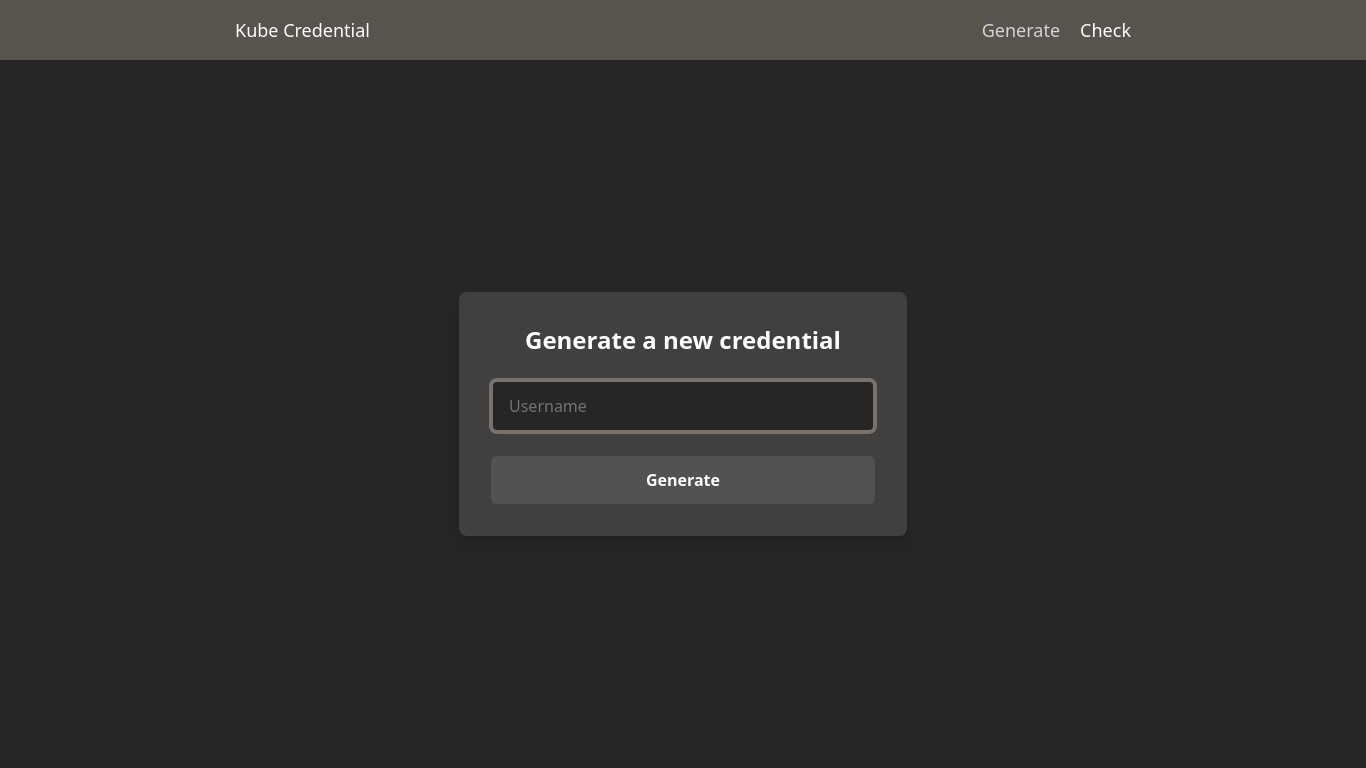
Test: GeneratePage › should show an alternate modal when a credential is already generated for a username
Type "test-user" into the field with placeholder "Username" at coordinates (683, 406), box [491, 380, 875, 432]
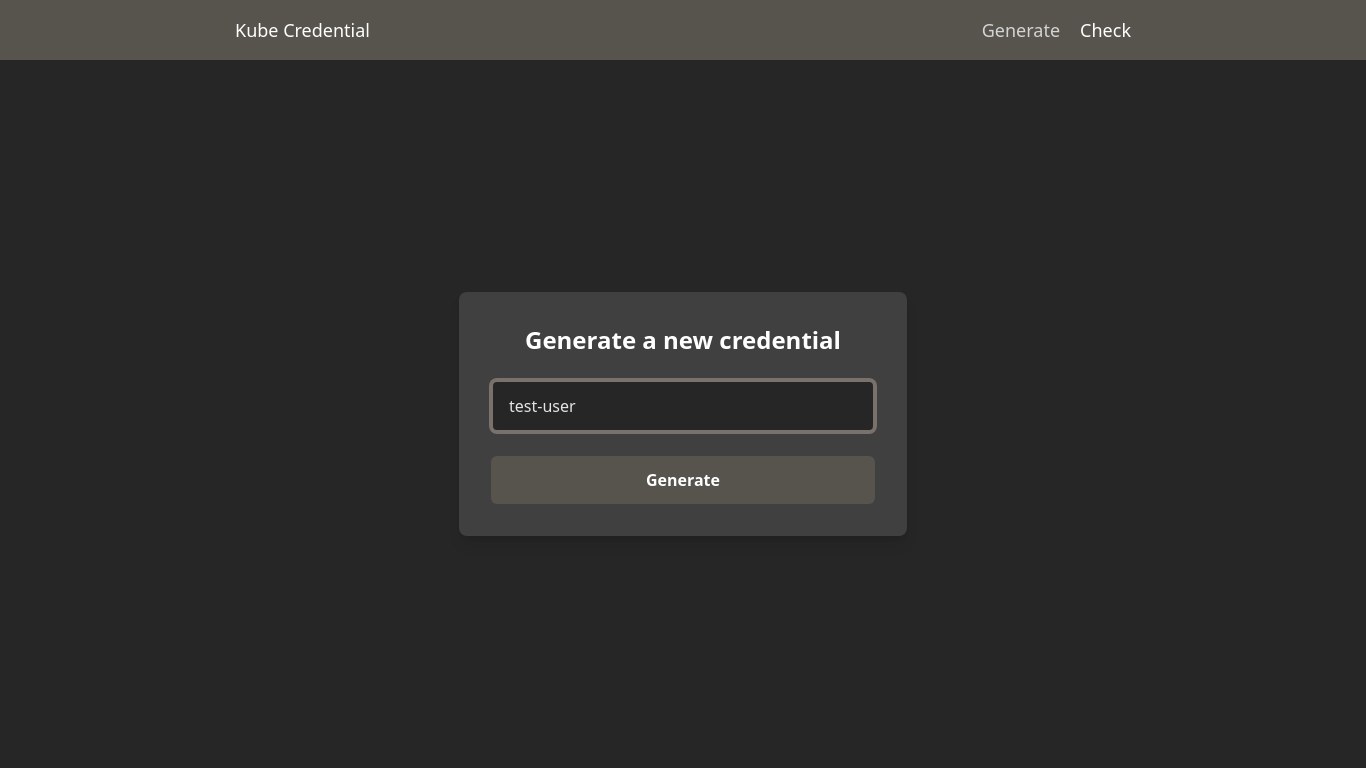
Click the button "Generate" at coordinates (683, 480), box [491, 456, 875, 504]
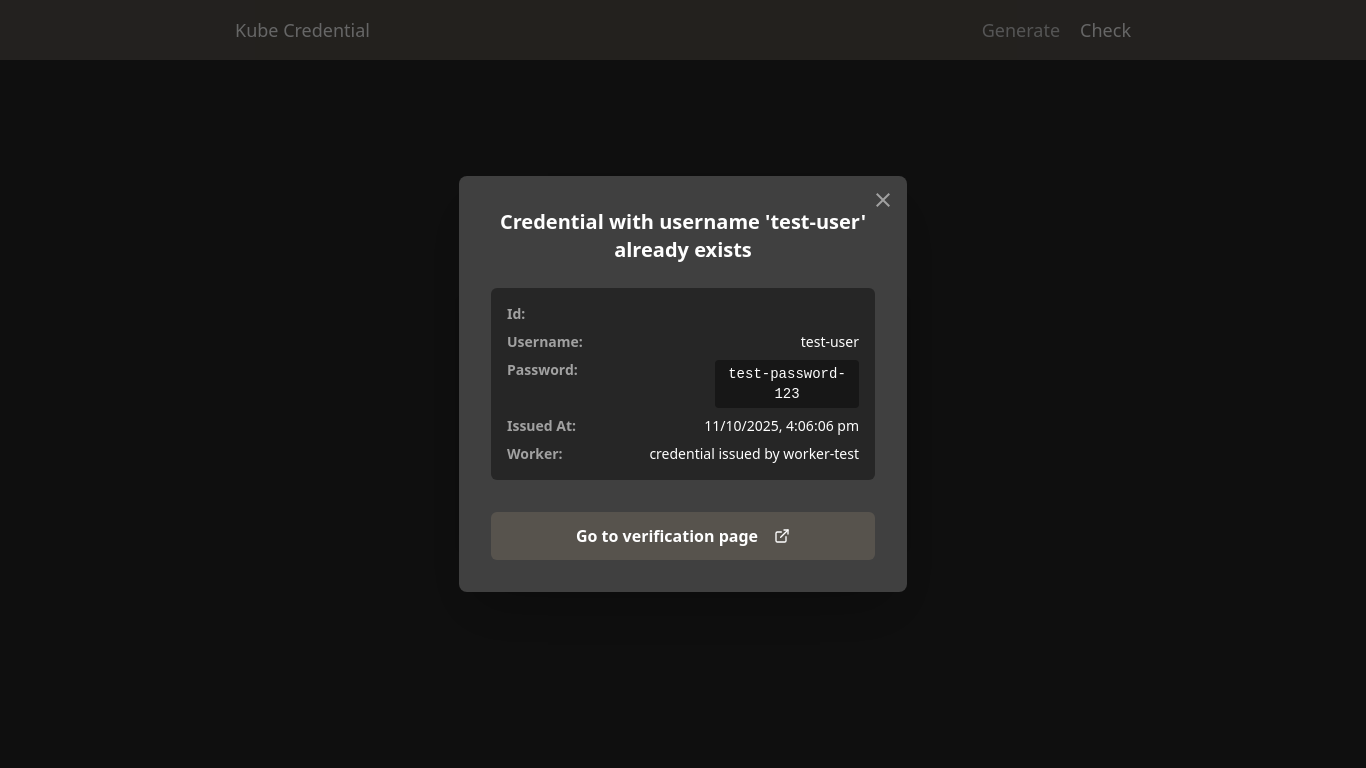
Now the heading "Credential with username 'test-user' already exists" is shown, box [491, 208, 875, 264]
Now the link "Go to verification page" is shown, box [491, 512, 875, 560]
